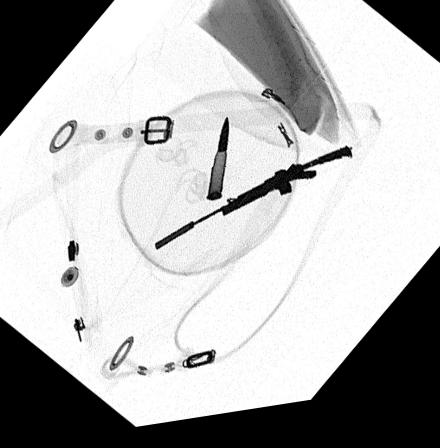Bullet: (206, 122, 228, 207)
Gun: (155, 154, 351, 254)
